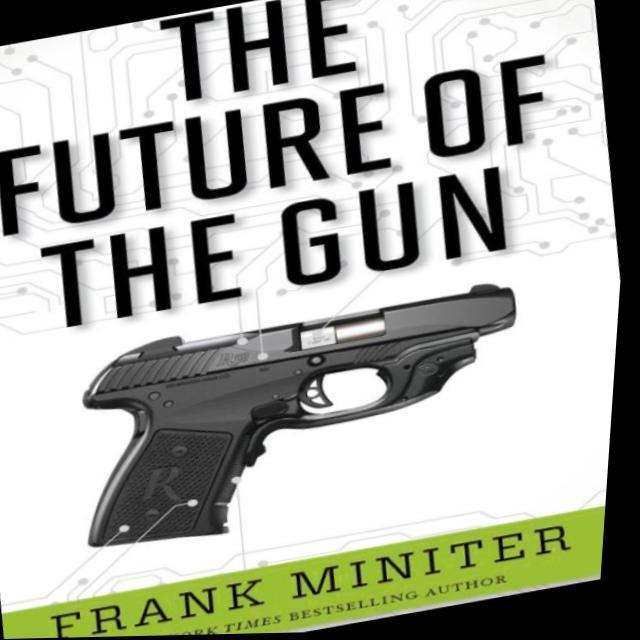weapon: (64, 278, 549, 560)
